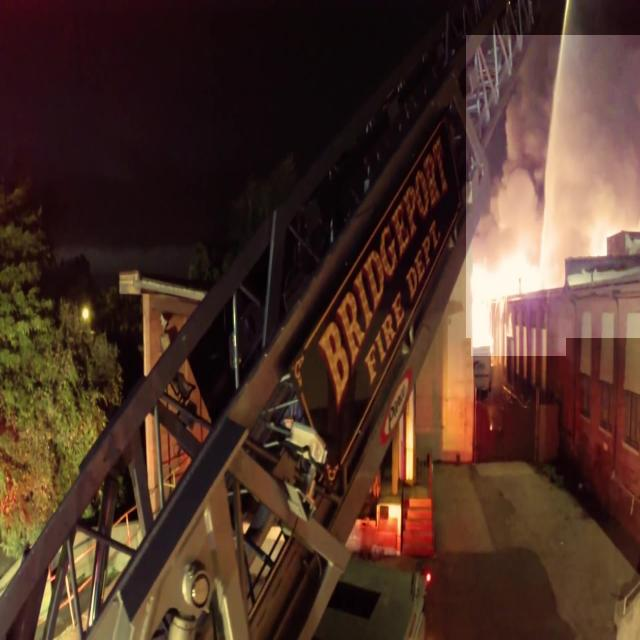Fire: (466, 35, 640, 338), (471, 226, 566, 356)
